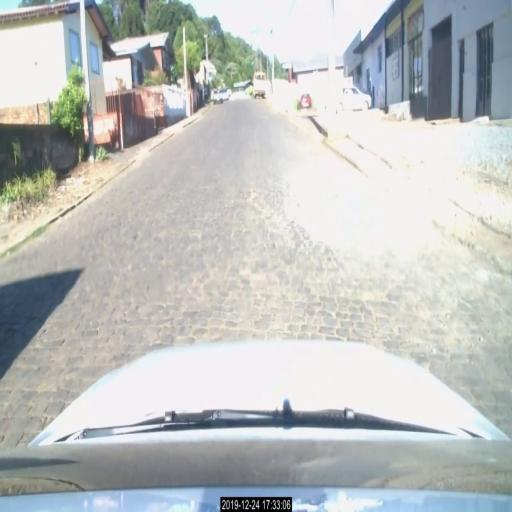Pothole: (286, 162, 342, 264)
